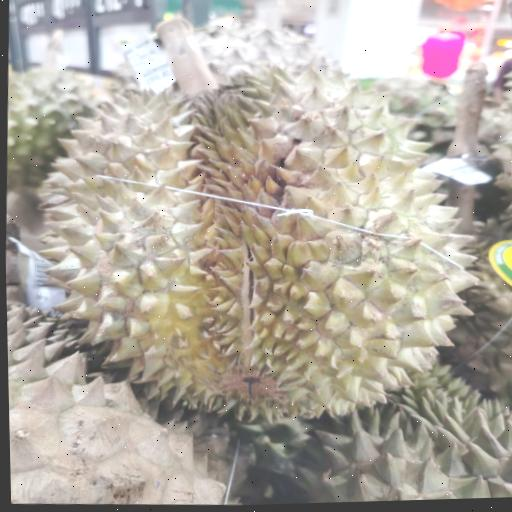rot: (0, 0, 509, 453)
